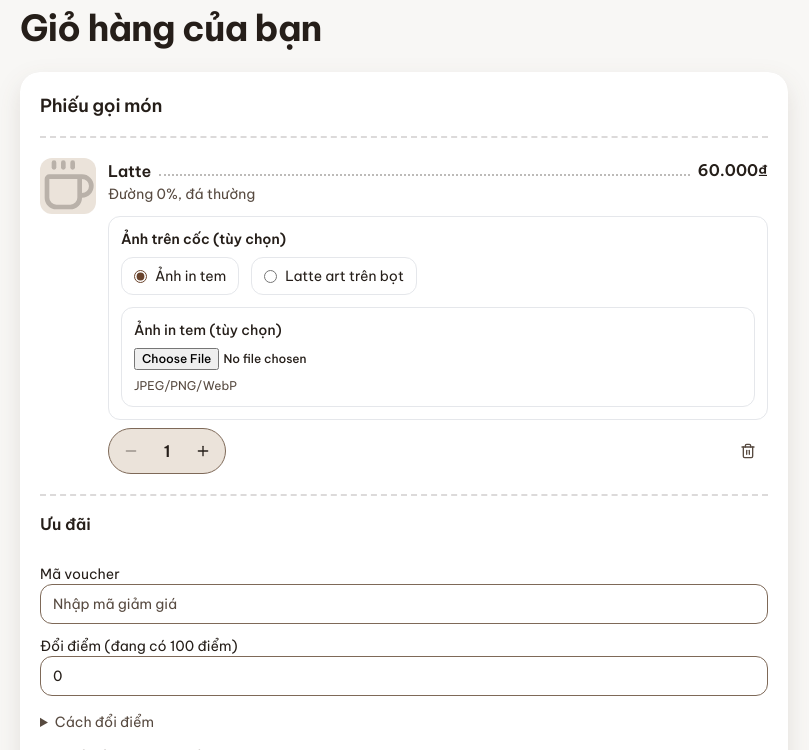
Test case: members and promotions UI › retains the post-voucher maximum when editing points and shows server rejection
The width and height of the screenshot is (809, 750).
Type "SAVE10" into the field labelled "Mã voucher". click: [404, 604]
box: [40,584,768,624]
(page scrolled)
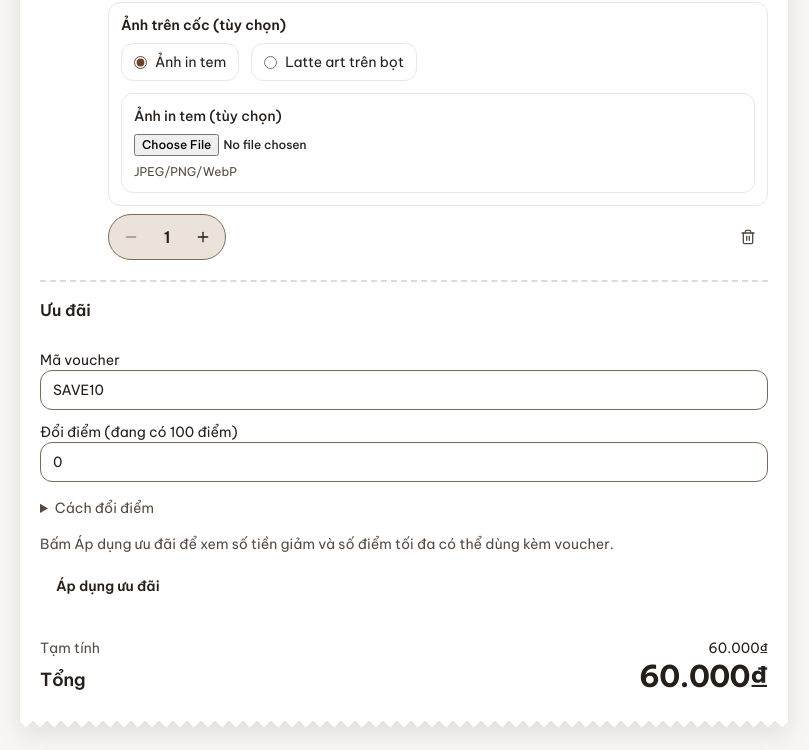
Click the button "Áp dụng ưu đãi". click: [108, 586]
box: [40,566,176,606]
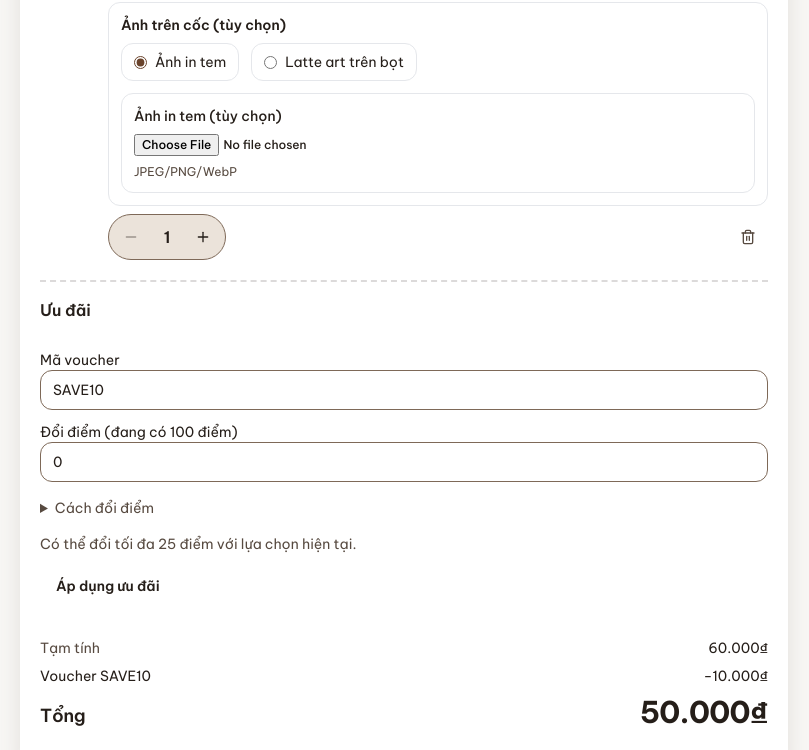
Now the text "Có thể đổi tối đa 25 điểm với lựa chọn hiện tại." is shown, box [40,535,356,553]
Replace the text in the number field named "Điểm muốn đổi" with "26". click: [404, 462]
box: [40,442,768,482]
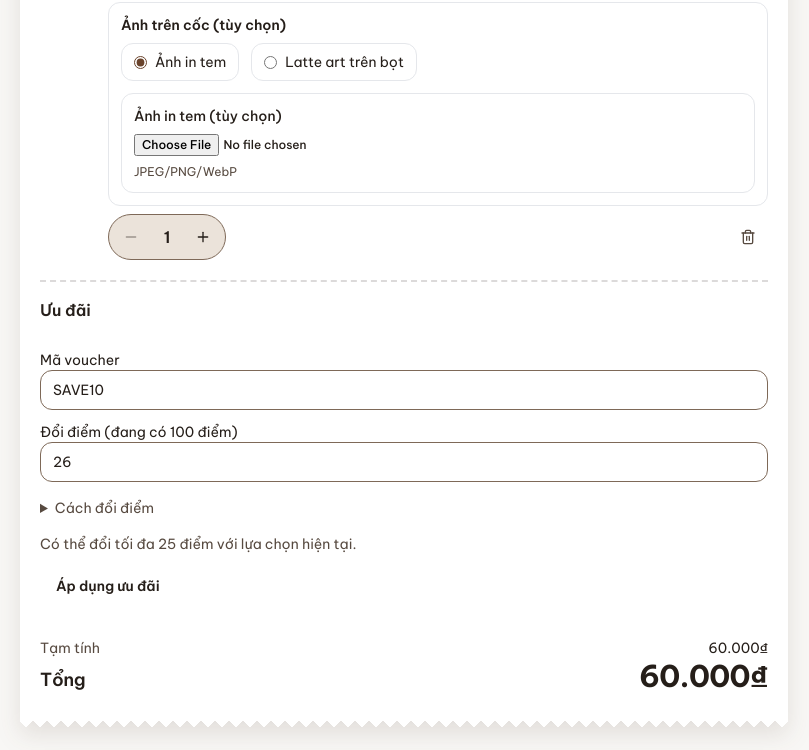
Click the button "Áp dụng ưu đãi". click: [108, 586]
box: [40,566,176,606]
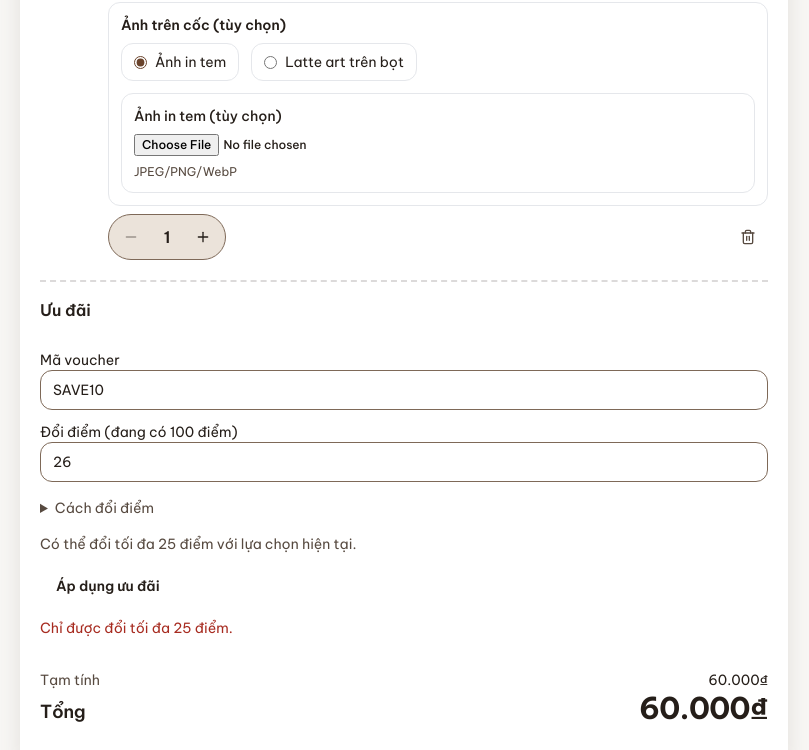
Now the text "Chỉ được đổi tối đa 25 điểm." is shown, box [40,619,233,637]
